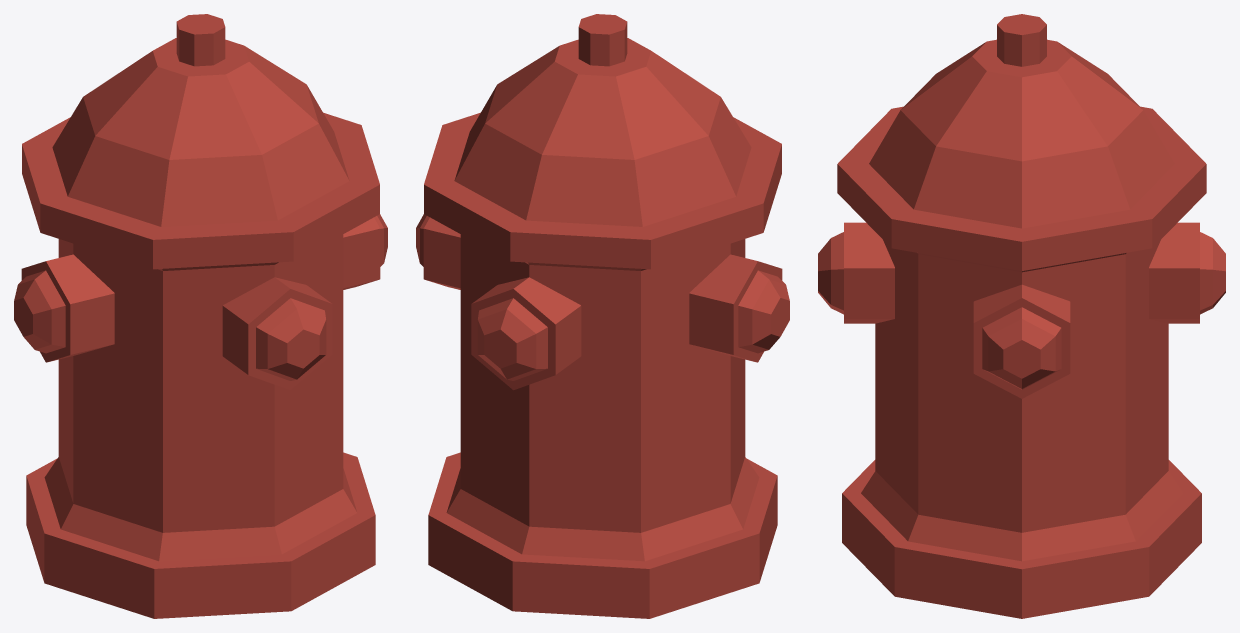
Rendered from WaterPemadam.fbx.
The picture shows the model from 3 angles, left to right: view 1: azimuth 30°, elevation 25°; view 2: azimuth 150°, elevation 25°; view 3: azimuth 270°, elevation 25°; orthographic projection.
Visible parts, largest first — view 1: Cylinder, Cylinder.002, Cylinder.001; view 2: Cylinder, Cylinder.002, Cylinder.001; view 3: Cylinder, Cylinder.001, Cylinder.002.
Boxes of the visible parts, x1=… form: Cylinder: x1=22, y1=14, x2=379, y2=618; Cylinder.002: x1=14, y1=214, x2=387, y2=362; Cylinder.001: x1=222, y1=277, x2=332, y2=390; Cylinder: x1=424, y1=14, x2=781, y2=618; Cylinder.002: x1=416, y1=214, x2=789, y2=362; Cylinder.001: x1=471, y1=277, x2=581, y2=390; Cylinder: x1=837, y1=14, x2=1206, y2=618; Cylinder.001: x1=818, y1=222, x2=1225, y2=323; Cylinder.002: x1=973, y1=284, x2=1070, y2=398.
Bounding box in the file's own units: 21.75 × 30.49 × 21.75.
